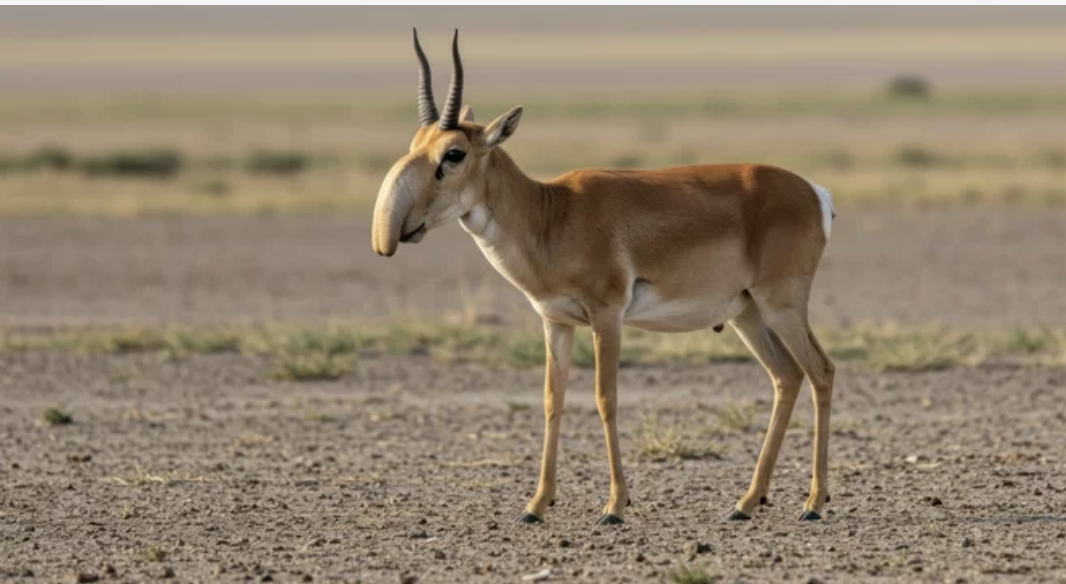saiga: (368, 18, 838, 536)
